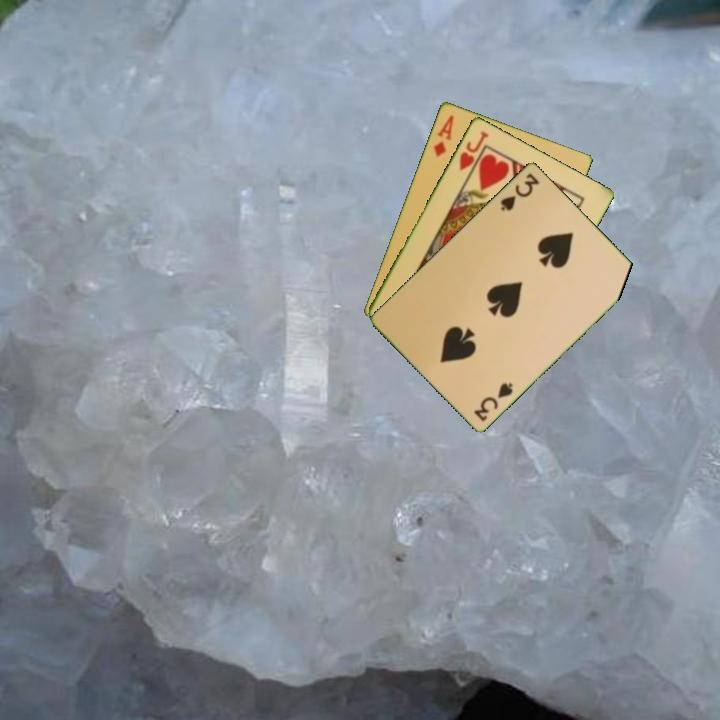3s: (470, 379, 516, 424), (497, 169, 543, 213)
Ad: (430, 111, 456, 159)
Jh: (456, 127, 491, 173)
